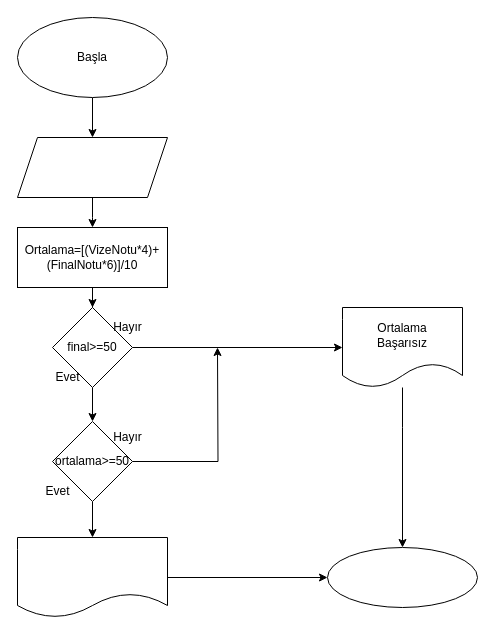
The diagram is 495 pixels wide and 635 high, and some of its shapes have lost their labels. The shapes that lost their labels are listed below. From the top down, each one's centre as x and y in pixels, then its label:
At point (92, 167): "VizeNotu FinalNotu".
At point (92, 577): "Ortalama Başarılı".
At point (402, 577): "Dur".
